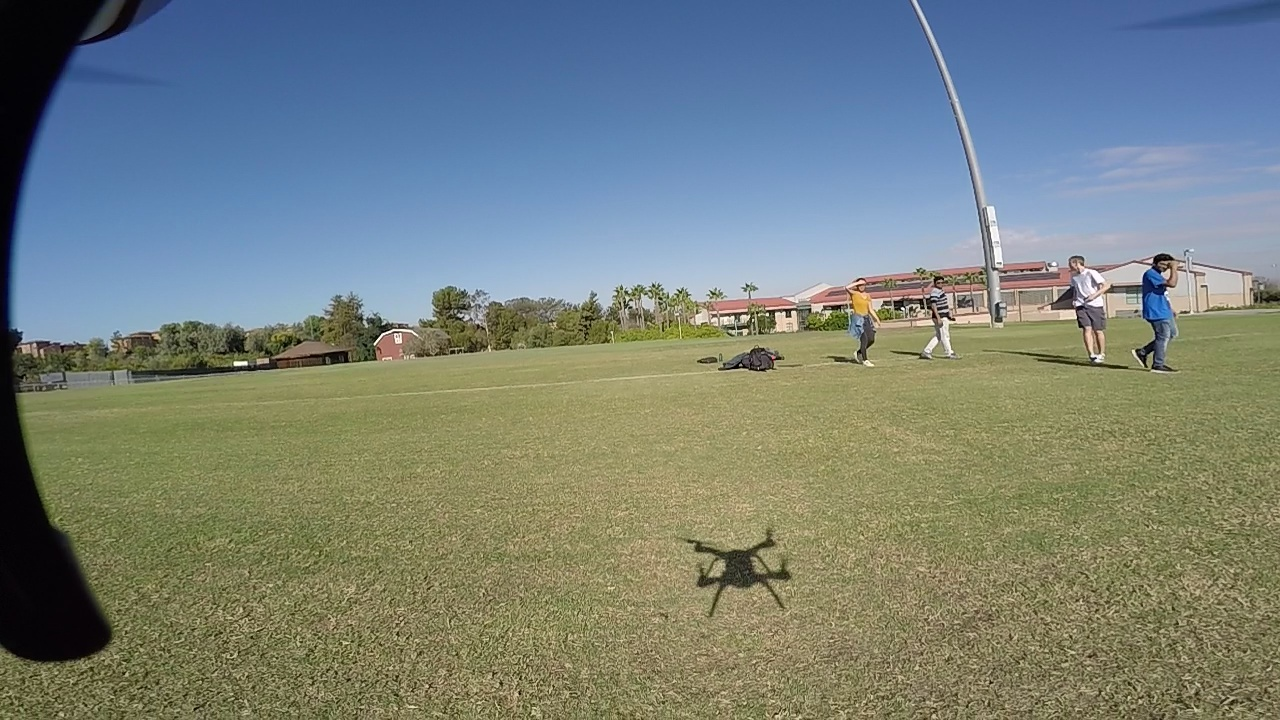person: (1059, 246, 1114, 358), (1133, 245, 1181, 366), (916, 270, 957, 354), (844, 273, 877, 360)
